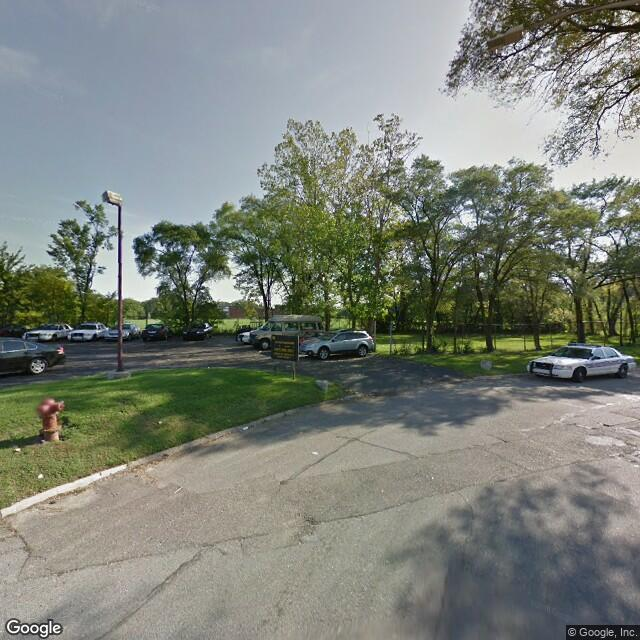litter: (155, 417, 163, 425), (312, 448, 319, 456), (12, 446, 21, 452), (39, 472, 43, 480), (242, 425, 247, 429)
